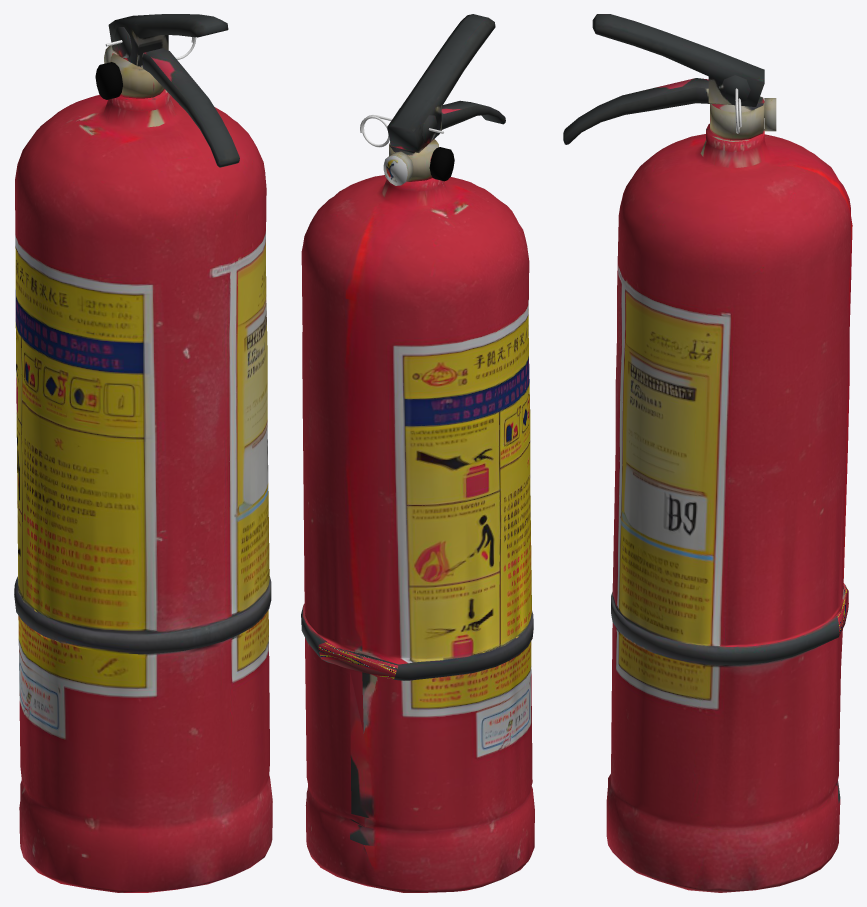
File: FireExtinguisher_CO2.fbx
The picture shows the model from 3 angles, left to right: view 1: azimuth 30°, elevation 25°; view 2: azimuth 150°, elevation 25°; view 3: azimuth 270°, elevation 25°; orthographic projection. The views are drawn at different scales.
Parts seen in each view (by area): view 1: Fire_Extinguisher_Body; view 2: Fire_Extinguisher_Body; view 3: Fire_Extinguisher_Body.
Part boxes in pixels (x1,y1,x2,y2): Fire_Extinguisher_Body: [14, 14, 272, 892]; Fire_Extinguisher_Body: [301, 14, 534, 892]; Fire_Extinguisher_Body: [563, 14, 852, 892].
Bounding box in the file's own units: 17 × 63.03 × 20.
